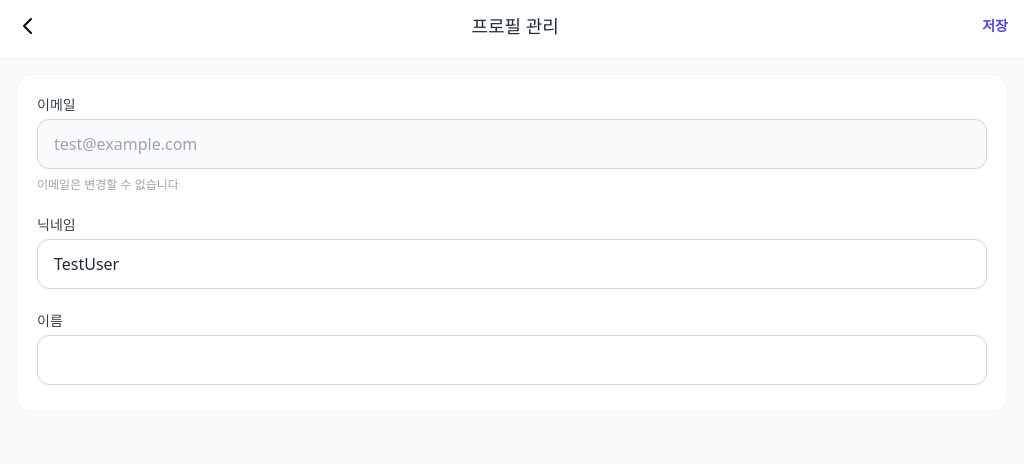
Settings Profile Flow - Integration Test › Success State › should show success toast after successful save
Replace the text in the field with test id "profile-nickname" with "UpdatedNick" at (512, 264), box [37,239,987,289]
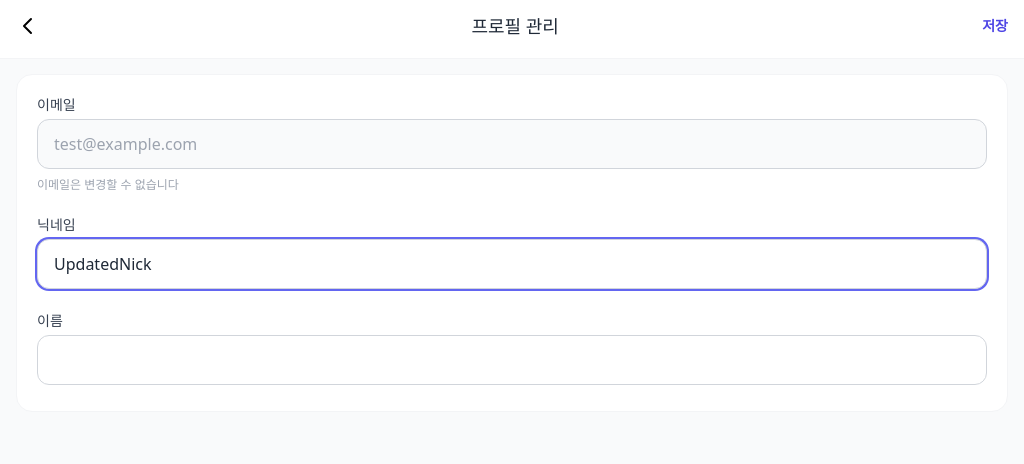
Click the button "저장" at (995, 26), box [982,16,1008,36]
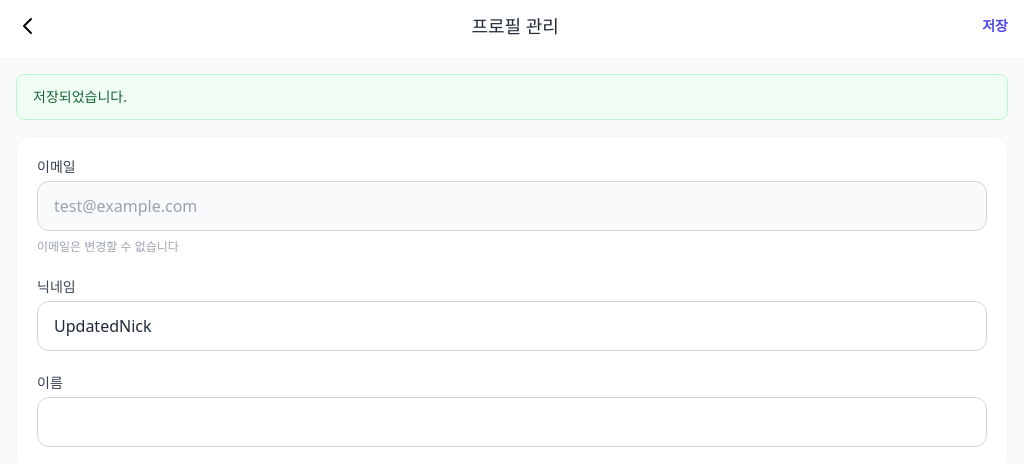
Check: the text "저장되었습니다." is shown, box [16,74,1008,120]
